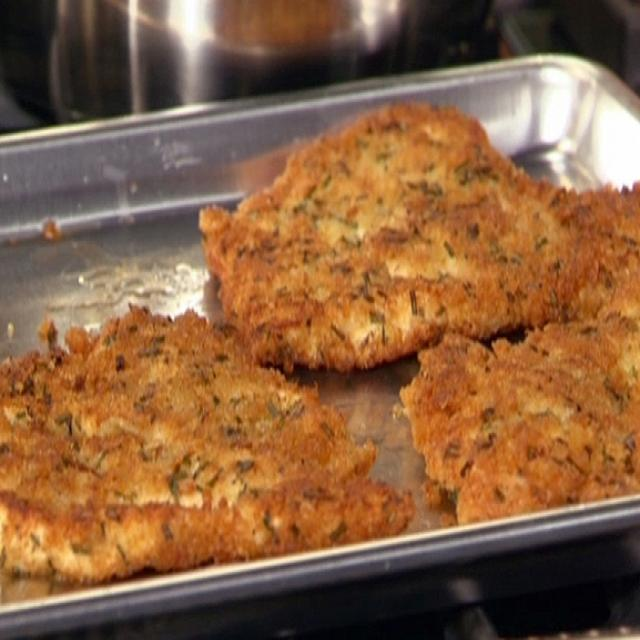鸡肉料理 含炸鸡: (5, 24, 636, 620)
